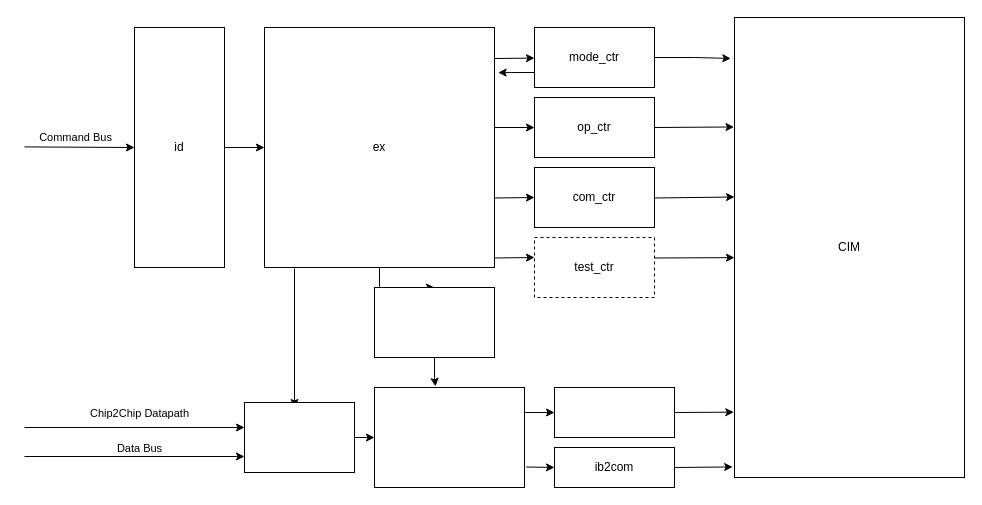
Some shapes in this 982 by 505 pixel diagram are drawn without their labels. The shapes that lost their labels are listed below. From the top down, each one's centre as x and y in pixels, then its label:
point 434,322: ib_ctr
point 614,412: ib2op
point 299,437: MUX
point 449,437: ib
